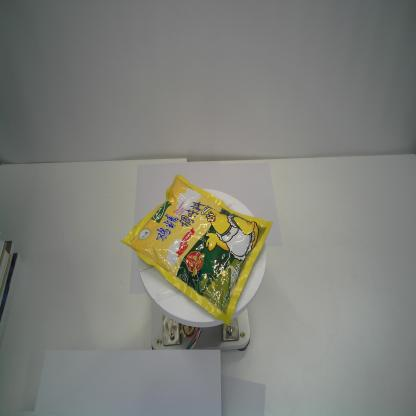Seasoner: (120, 172, 273, 327)
